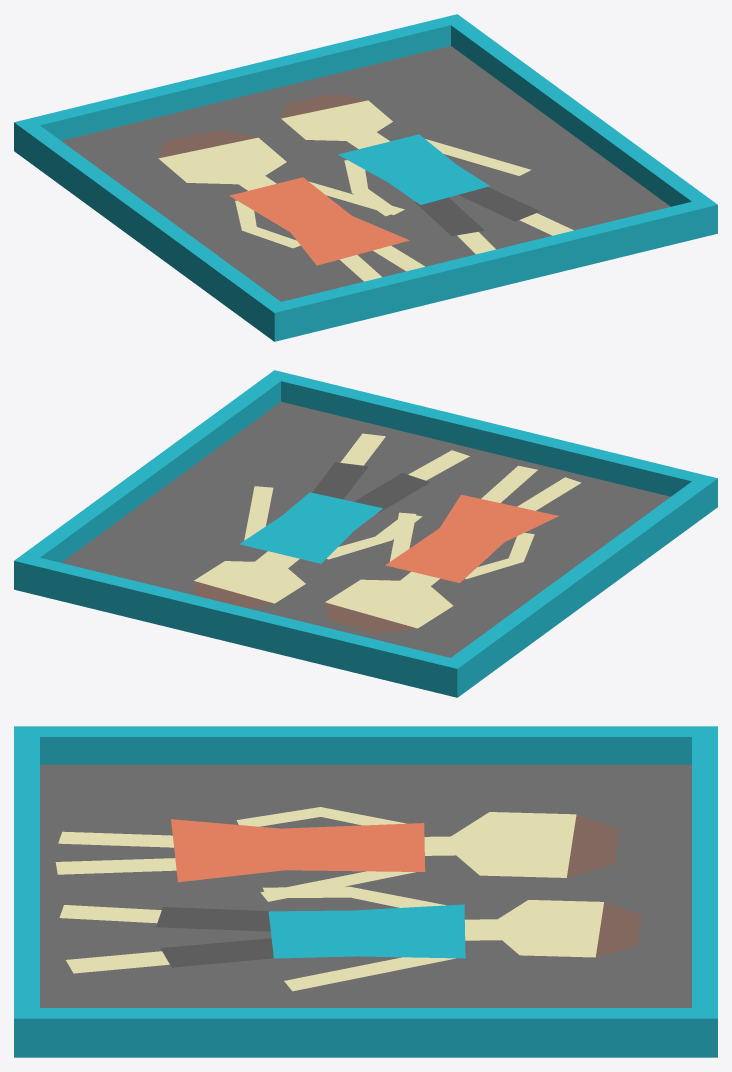
Rendered from wall-art-b.glb.
3 views of the same model, one above another, from view 1: azimuth 30°, elevation 25°; view 2: azimuth 150°, elevation 25°; view 3: azimuth 270°, elevation 25° (orthographic). The views are drawn at different scales.
Visible parts, largest first — view 1: picture_032; view 2: picture_032; view 3: picture_032.
Boxes of the visible parts, x1,y1,x2,y2 form: picture_032: (14,14,717,341); picture_032: (14,370,717,697); picture_032: (14,726,717,1057).
Size of the model in its own units: 0.4163 by 0.0259 by 0.4235.
Materials: 1 (1 with a texture image).
